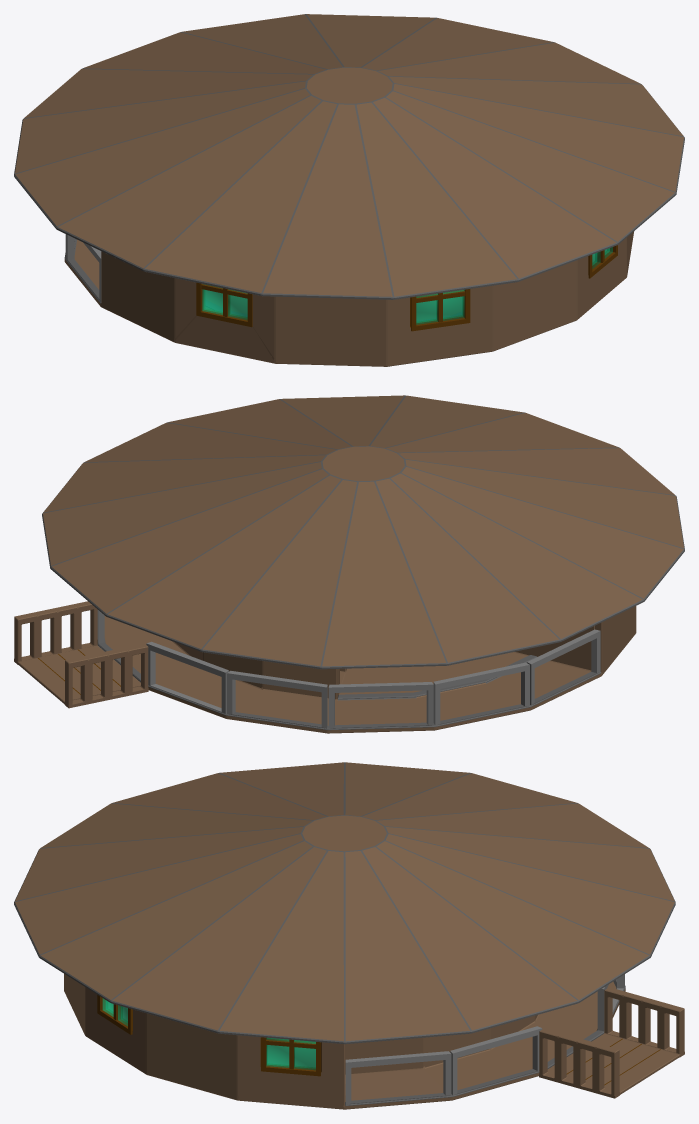
Rendered from COD_StartScene_Object(학교에서 수정한거).fbx.
The picture shows the model from 3 angles, top to bottom: view 1: azimuth 30°, elevation 25°; view 2: azimuth 150°, elevation 25°; view 3: azimuth 270°, elevation 25°; orthographic projection. The views are drawn at different scales.
Visible parts, largest first — view 1: Start; view 2: Start; view 3: Start.
Boxes of the visible parts, left/top/right/bottom form: Start: left=14, top=14, right=684, bottom=366; Start: left=14, top=395, right=684, bottom=733; Start: left=14, top=762, right=684, bottom=1109.
Bounding box in the file's own units: 5994 × 1577 × 6077.
